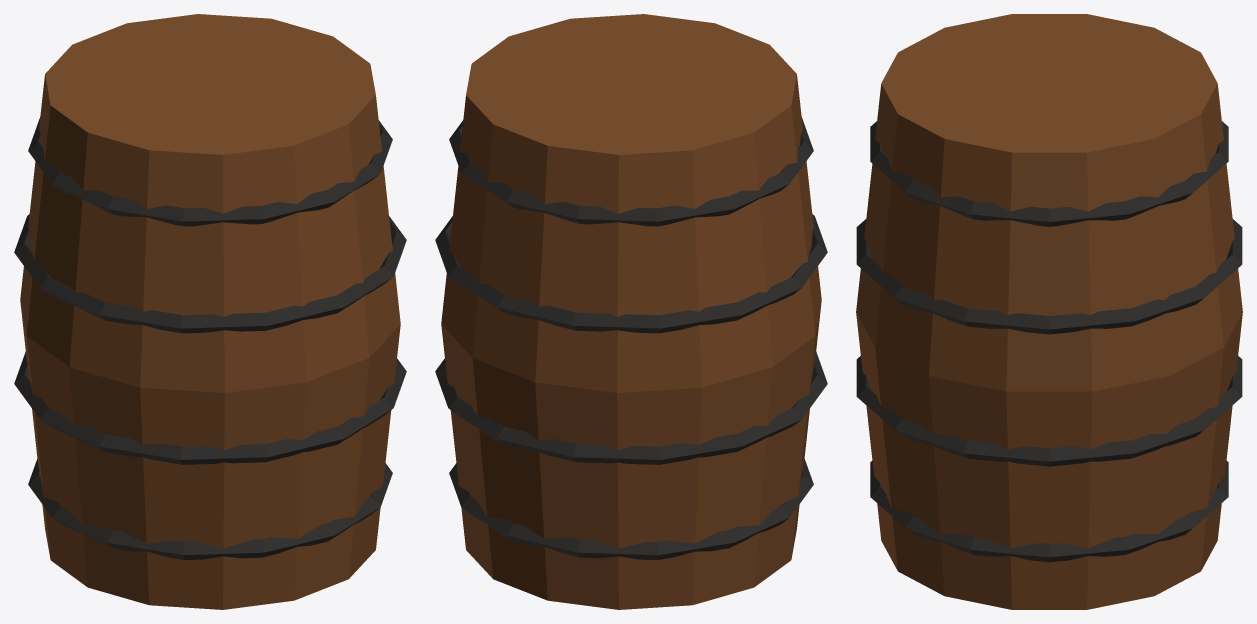
The model's file is barrel.glb.
3 renders of one model, left to right at view 1: azimuth 30°, elevation 25°; view 2: azimuth 150°, elevation 25°; view 3: azimuth 270°, elevation 25°, orthographic.
Visible parts, largest first — view 1: Cylinder; view 2: Cylinder; view 3: Cylinder.
Boxes of the visible parts, x1,y1,x2,y2 form: Cylinder: (14,14,406,609); Cylinder: (435,14,827,609); Cylinder: (856,14,1242,609).
Bounding box in the file's own units: 0.706 × 0.9 × 0.69.
